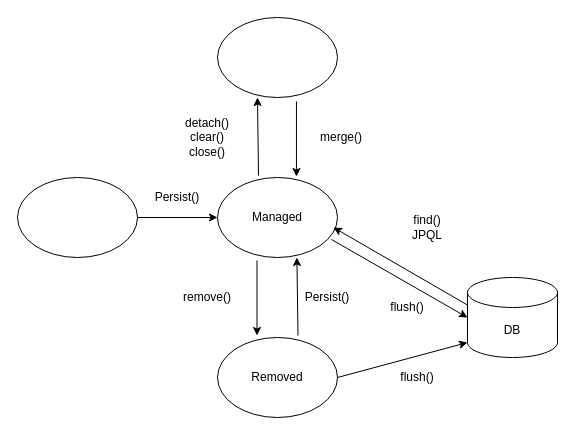
The diagram is 575 pixels wide and 435 high, and some of its shapes have lost their labels. The box of each missing label's shape, as (x1, y1, x2, y2) in pixels:
Detached: (216, 16, 338, 98)
New: (16, 176, 138, 258)
